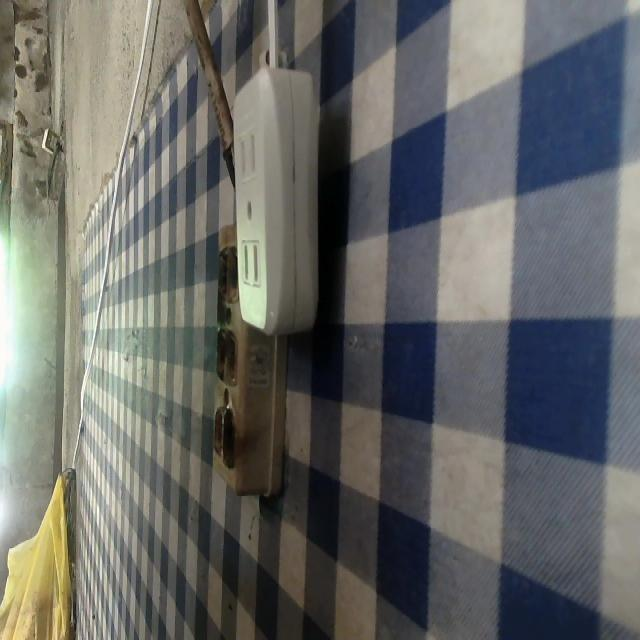-: (208, 320, 249, 393), (206, 400, 242, 472), (209, 236, 242, 293)
